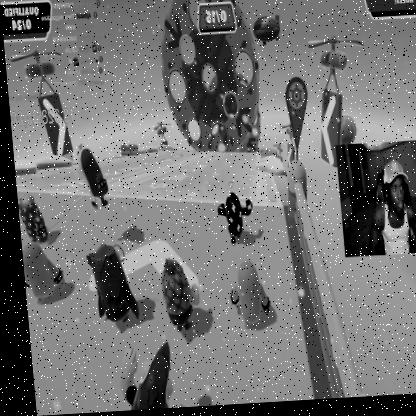streamer: (357, 161, 416, 260)
